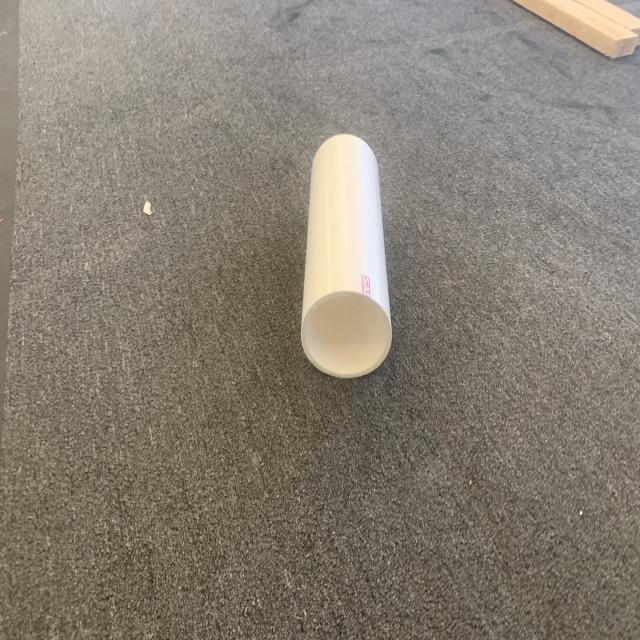Coral: (299, 132, 393, 379)
